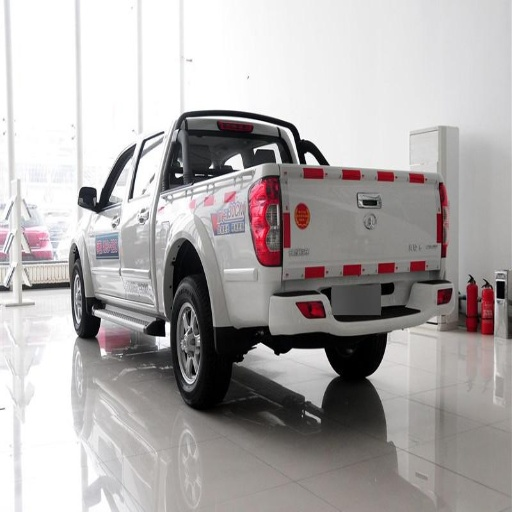back_bumper: (255, 285, 398, 334)
back_glass: (186, 130, 282, 175)
back_left_door: (125, 159, 152, 236)
trunk: (142, 170, 436, 327)
